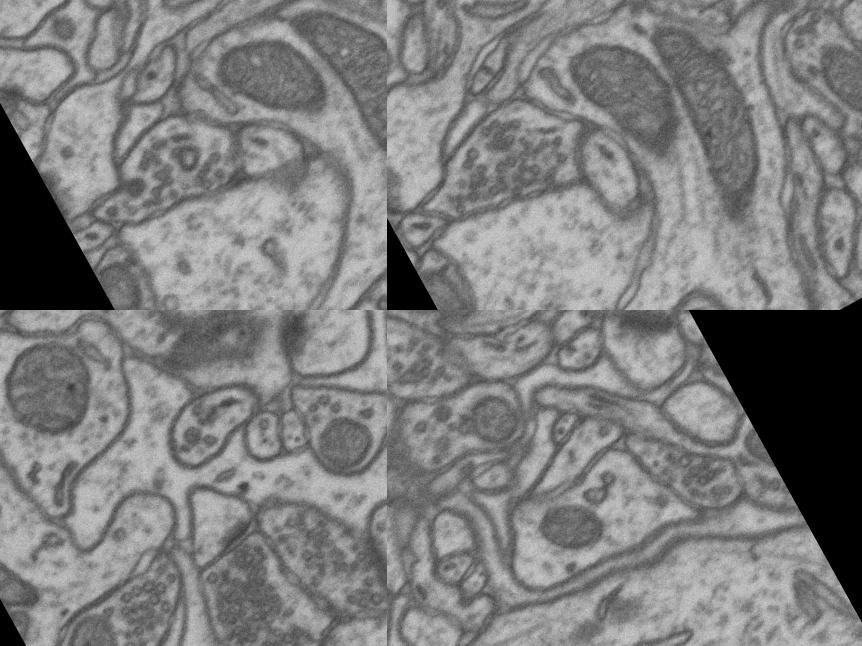mitochondria: (626, 4, 800, 230), (554, 12, 706, 182), (0, 310, 128, 462), (211, 12, 342, 149), (288, 0, 387, 180), (518, 472, 634, 583), (0, 441, 55, 621), (448, 372, 540, 470), (302, 394, 387, 484), (804, 23, 862, 133), (717, 416, 786, 502), (47, 593, 138, 646), (92, 248, 160, 310), (594, 310, 693, 348), (0, 570, 49, 646), (417, 256, 483, 310)
